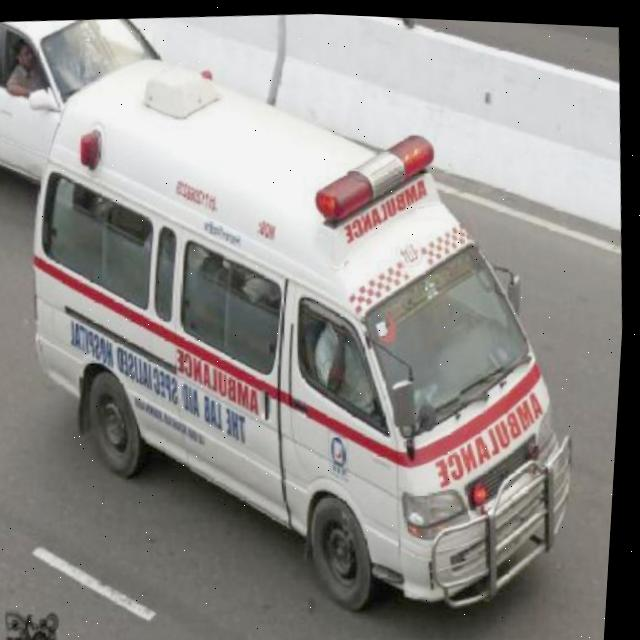emergency: (1, 21, 607, 639)
